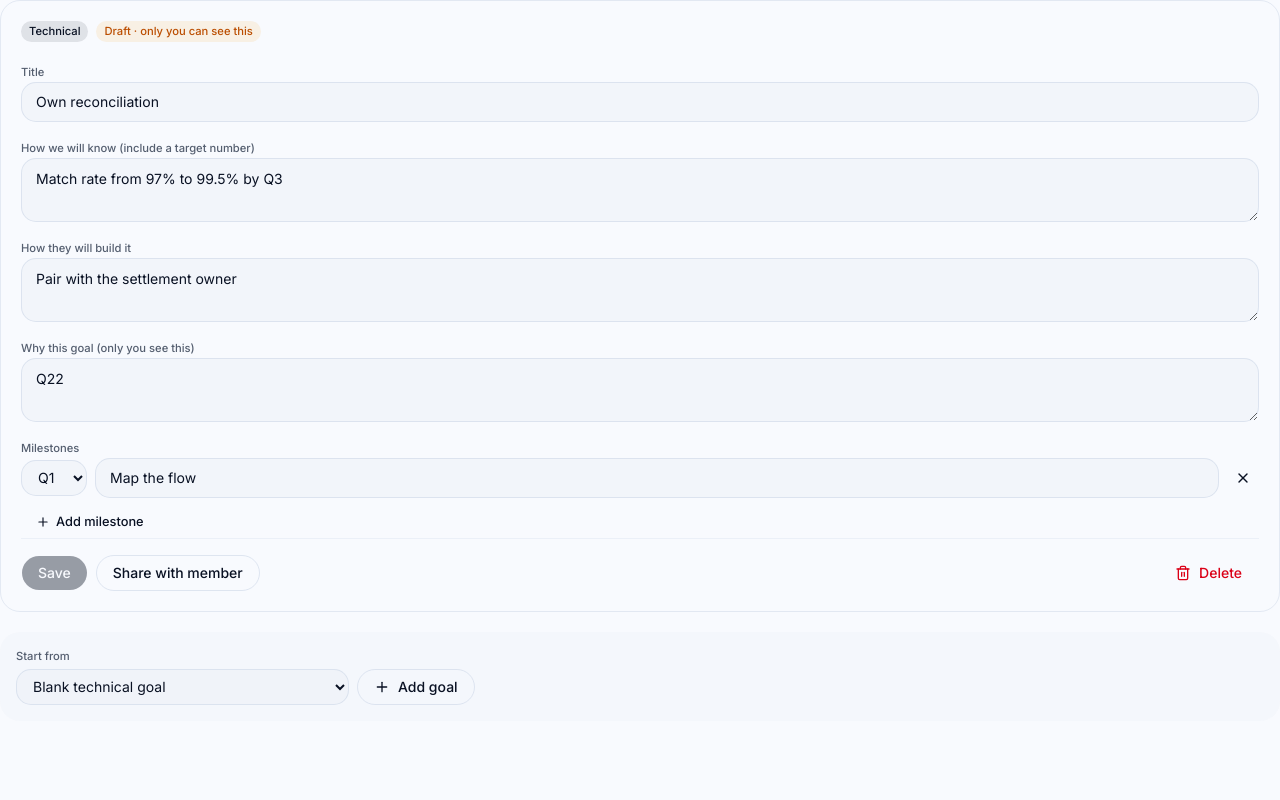
Test: GoalEditor: sharing › will not share edits that are not saved yet
The width and height of the screenshot is (1280, 800).
Replace the text in the field named "Title" with "Unsaved change": (640,102) [21, 82, 1259, 122]
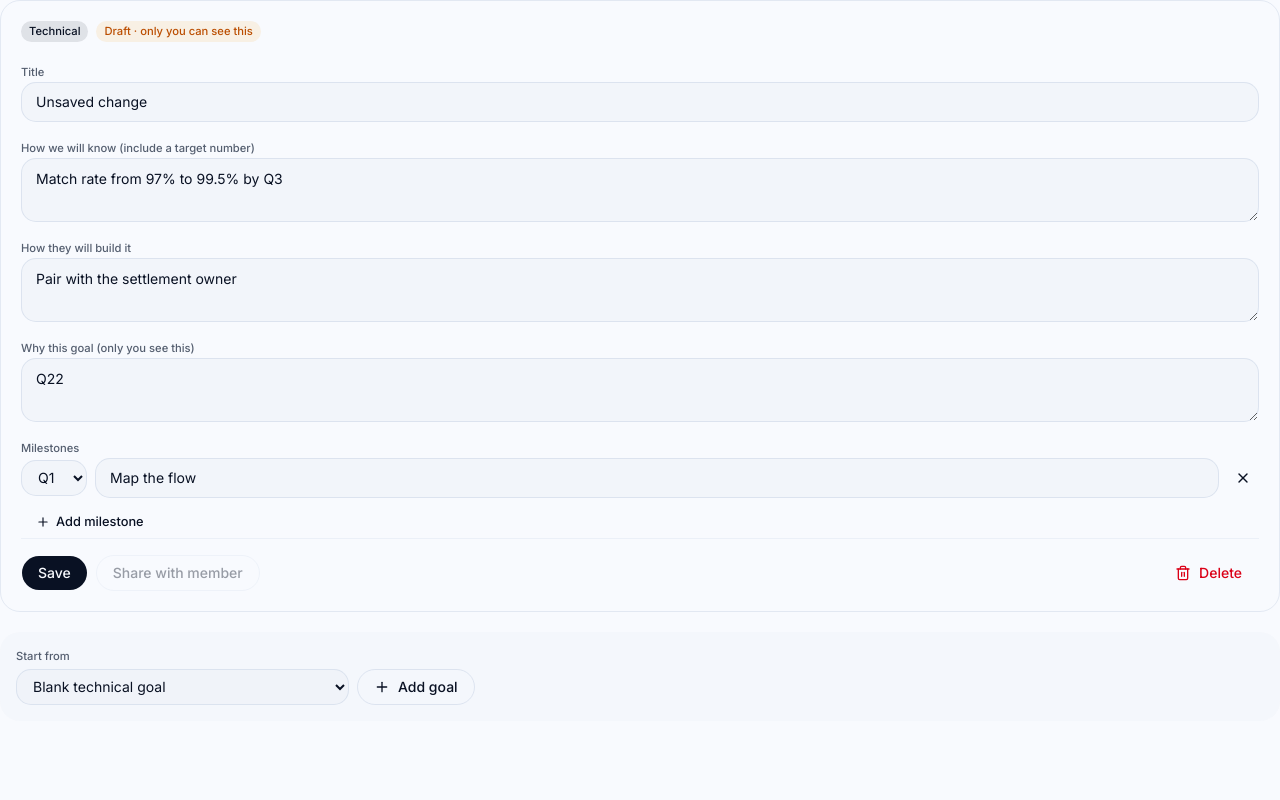
Check: the button "Share with member" is disabled, box [96, 555, 260, 591]
